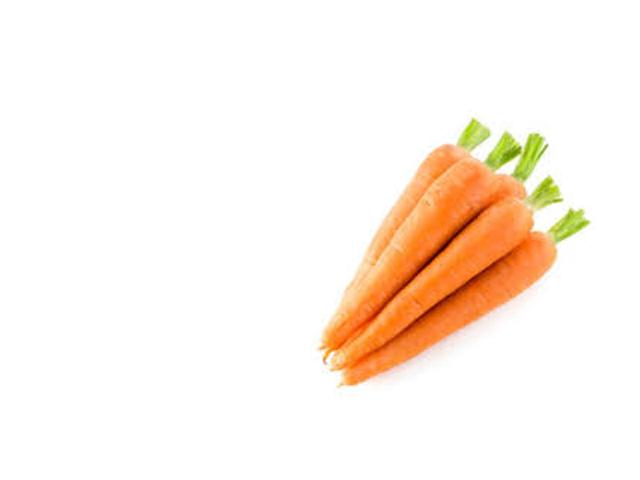carrot: (346, 234, 571, 404)
